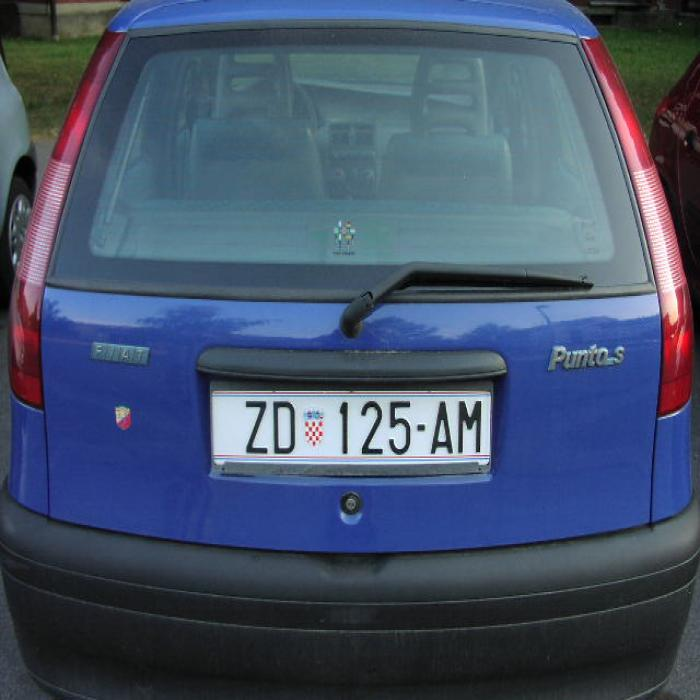number_plate: (214, 392, 488, 459)
